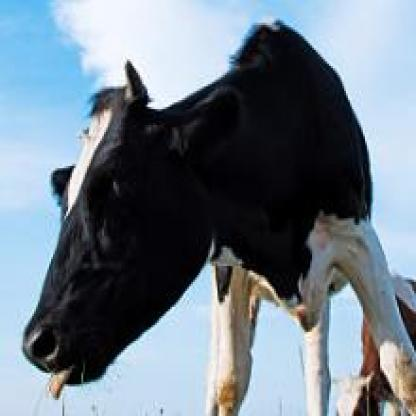cow: (21, 18, 416, 416), (333, 273, 416, 416)
